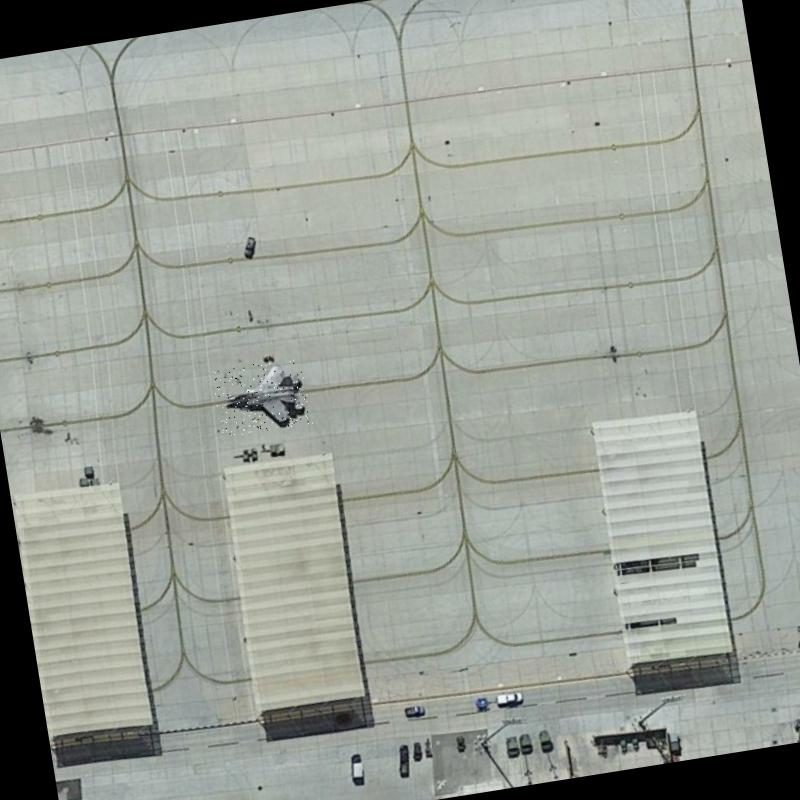A15: (211, 356, 313, 438)
